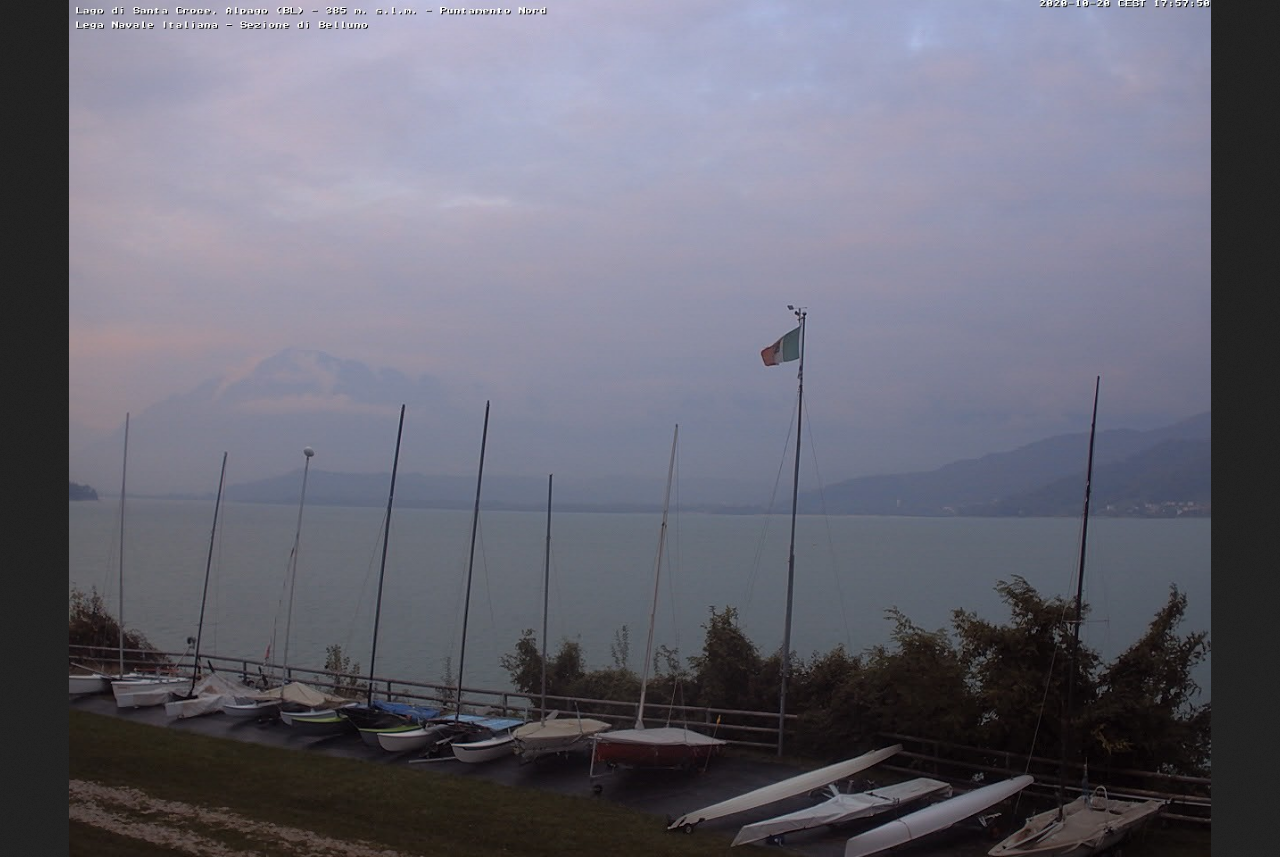maybe: (760, 318, 804, 366)
